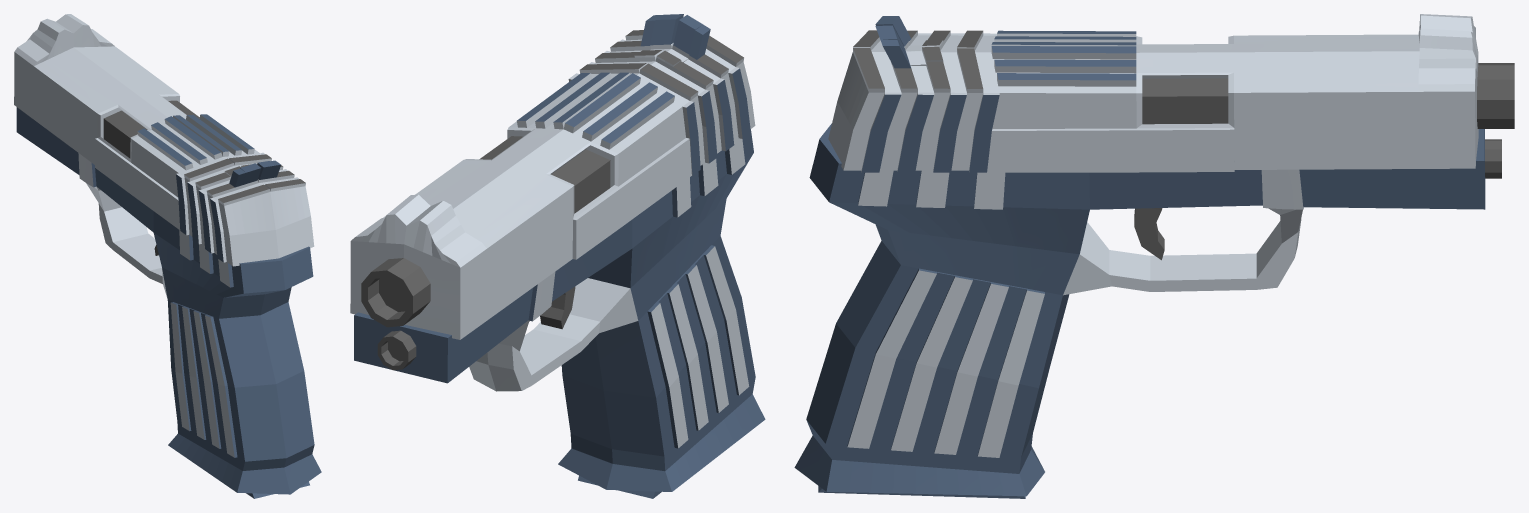
The model's file is Pistol_1.fbx.
3 views of the same model, side by side, from view 1: azimuth 30°, elevation 25°; view 2: azimuth 150°, elevation 25°; view 3: azimuth 270°, elevation 25° (orthographic). The views are drawn at different scales.
Visible parts, largest first — view 1: Pistol_1; view 2: Pistol_1; view 3: Pistol_1.
Boxes of the visible parts, x1=… form: Pistol_1: x1=14, y1=14, x2=321, y2=498; Pistol_1: x1=350, y1=14, x2=765, y2=498; Pistol_1: x1=794, y1=14, x2=1514, y2=498.
Bounding box in the file's own units: 97.32 × 337 × 481.
